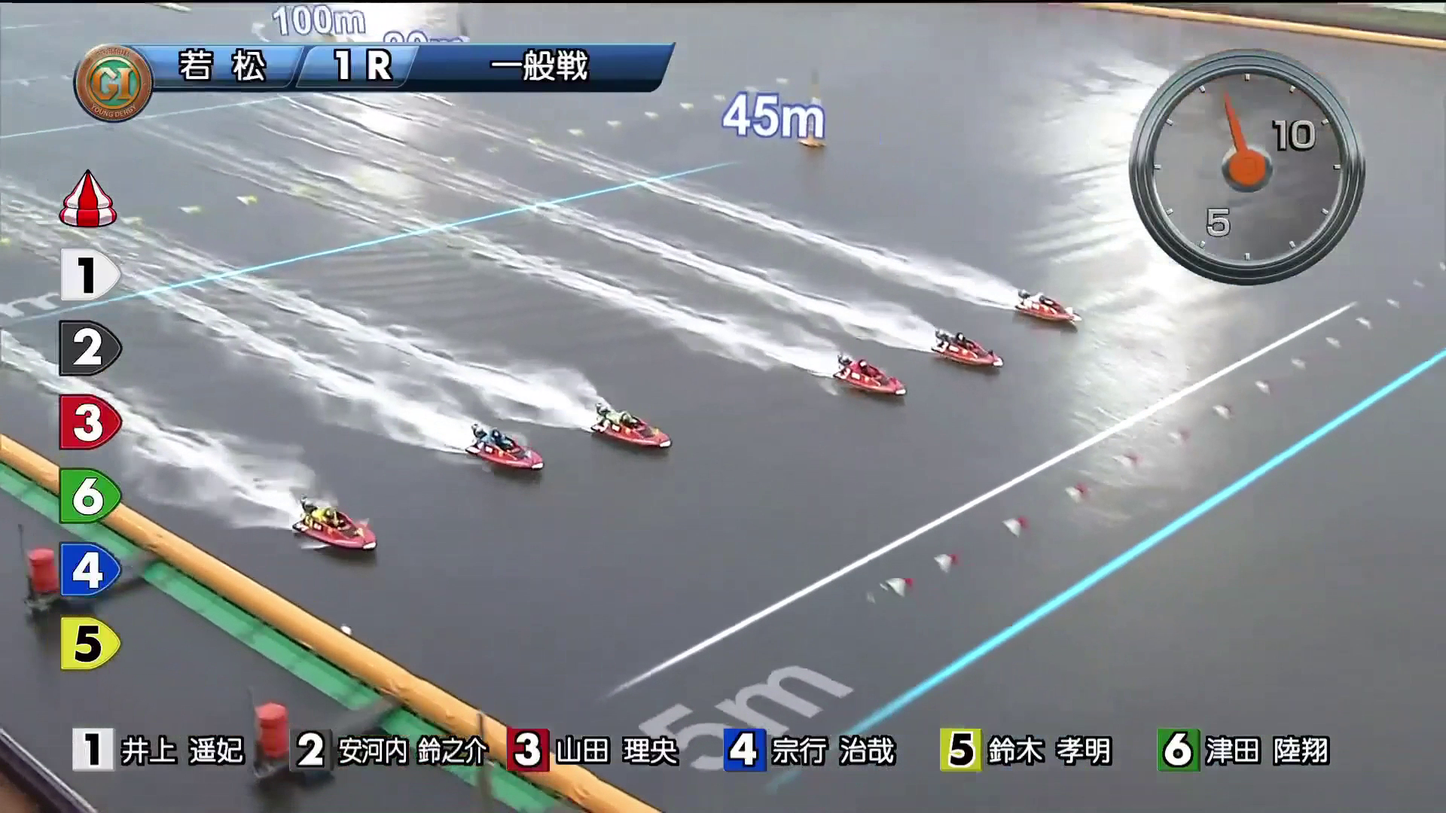１号艇: (998, 276, 1064, 322)
２号艇: (936, 323, 998, 361)
３号艇: (838, 350, 893, 392)
４号艇: (606, 407, 669, 450)
５号艇: (479, 447, 548, 485)
６号艇: (334, 537, 399, 583)
